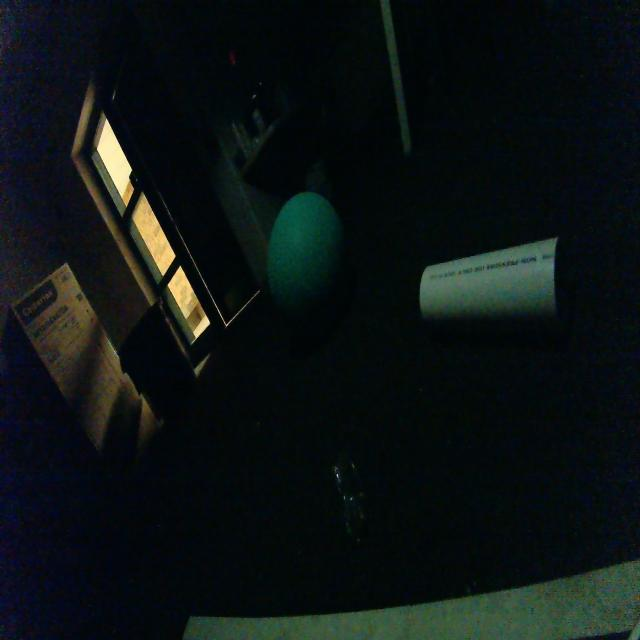algae: (262, 182, 341, 308)
coral: (412, 227, 568, 348)
